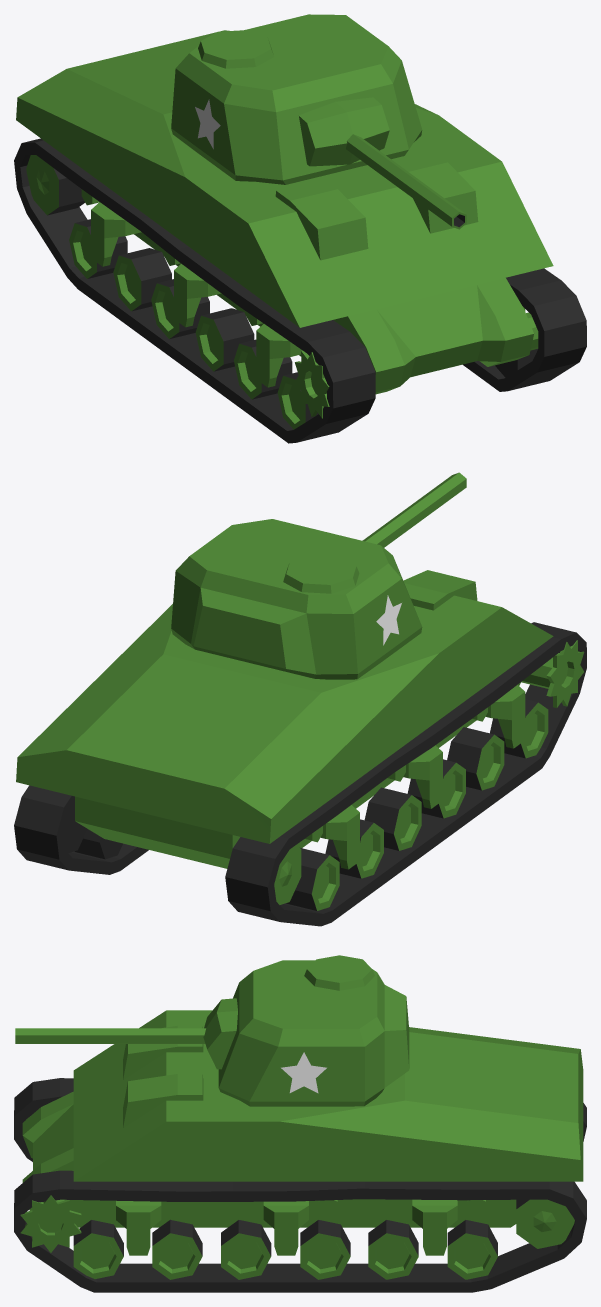
File: ww2_sherman.fbx
The picture shows the model from 3 angles, top to bottom: view 1: azimuth 30°, elevation 25°; view 2: azimuth 150°, elevation 25°; view 3: azimuth 270°, elevation 25°; orthographic projection. The views are drawn at different scales.
Parts seen in each view (by area): view 1: sherman_body, sherman_head, sherman_belt, sherman_gun, sherman_wheel4, sherman_wheel6, sherman_wheel8, sherman_wheel1, sherman_wheel2, sherman_wheel3, sherman_wheel5, sherman_wheel7; view 2: sherman_body, sherman_head, sherman_belt, sherman_wheel7, sherman_wheel3, sherman_wheel5, sherman_gun, sherman_wheel1, sherman_wheel8, sherman_wheel2, sherman_wheel6, sherman_wheel4; view 3: sherman_body, sherman_belt, sherman_head, sherman_gun, sherman_wheel7, sherman_wheel5, sherman_wheel6, sherman_wheel3, sherman_wheel4, sherman_wheel2, sherman_wheel8, sherman_wheel1.
Part boxes in pixels (bbox=[...]): sherman_body: bbox=[16, 30, 553, 394]; sherman_head: bbox=[171, 14, 422, 184]; sherman_belt: bbox=[14, 138, 586, 443]; sherman_gun: bbox=[299, 97, 466, 229]; sherman_wheel4: bbox=[195, 308, 254, 371]; sherman_wheel6: bbox=[113, 248, 171, 311]; sherman_wheel8: bbox=[26, 155, 84, 215]; sherman_wheel1: bbox=[294, 312, 538, 418]; sherman_wheel2: bbox=[277, 349, 537, 429]; sherman_wheel3: bbox=[234, 339, 292, 399]; sherman_wheel5: bbox=[151, 279, 209, 338]; sherman_wheel7: bbox=[69, 219, 127, 278]; sherman_body: bbox=[16, 570, 553, 869]; sherman_head: bbox=[171, 519, 422, 679]; sherman_belt: bbox=[14, 622, 586, 926]; sherman_wheel7: bbox=[74, 829, 339, 910]; sherman_wheel3: bbox=[447, 727, 504, 790]; sherman_wheel5: bbox=[364, 787, 421, 850]; sherman_gun: bbox=[362, 472, 466, 547]; sherman_wheel1: bbox=[521, 640, 584, 707]; sherman_wheel8: bbox=[63, 804, 301, 904]; sherman_wheel2: bbox=[490, 699, 548, 758]; sherman_wheel6: bbox=[325, 819, 383, 878]; sherman_wheel4: bbox=[407, 759, 465, 818]; sherman_body: bbox=[22, 1010, 583, 1255]; sherman_belt: bbox=[14, 1078, 586, 1292]; sherman_head: bbox=[218, 955, 409, 1106]; sherman_gun: bbox=[15, 998, 237, 1069]; sherman_wheel7: bbox=[447, 1220, 497, 1279]; sherman_wheel5: bbox=[300, 1220, 350, 1279]; sherman_wheel6: bbox=[368, 1220, 418, 1279]; sherman_wheel3: bbox=[152, 1219, 202, 1279]; sherman_wheel4: bbox=[221, 1220, 271, 1279]; sherman_wheel2: bbox=[73, 1220, 123, 1278]; sherman_wheel8: bbox=[516, 1199, 574, 1248]; sherman_wheel1: bbox=[20, 1116, 81, 1252].
Bounding box in the file's own units: 92.51 × 96.03 × 200.
